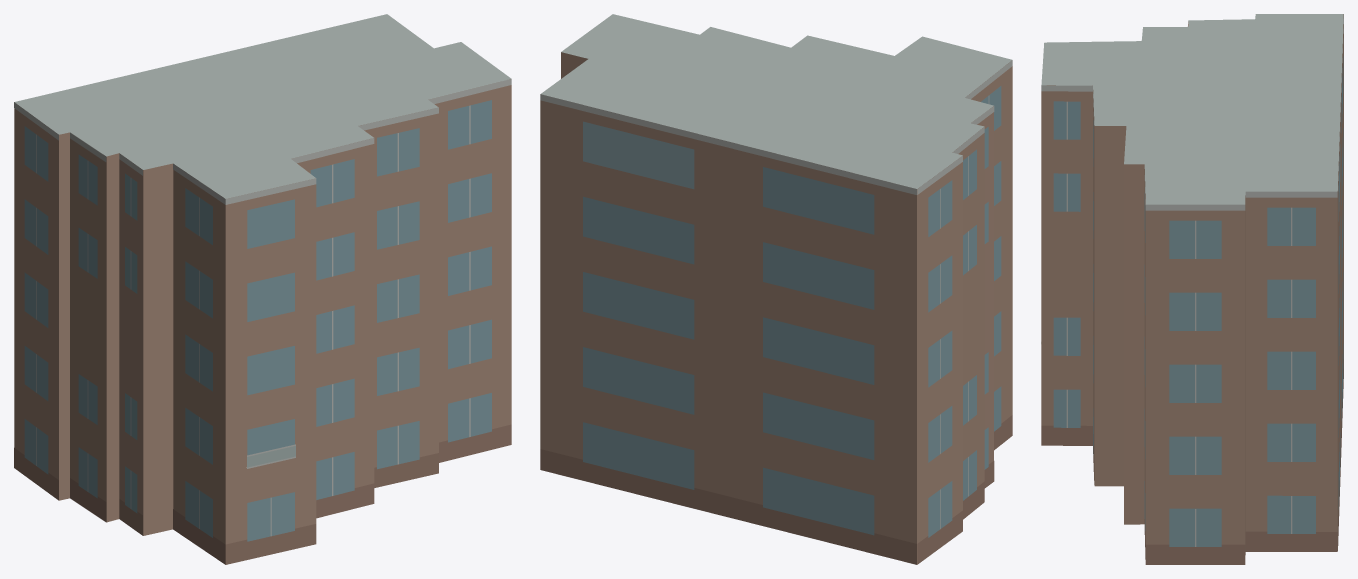
File: survey-upis-32769770.glb
3 views of the same model, side by side, from view 1: azimuth 30°, elevation 25°; view 2: azimuth 150°, elevation 25°; view 3: azimuth 270°, elevation 25° (orthographic). The views are drawn at different scales.
Parts seen in each view (by area): view 1: survey-upis-32769770.tmp; view 2: survey-upis-32769770.tmp; view 3: survey-upis-32769770.tmp.
Part boxes in pixels (x1,y1,x2,y2): survey-upis-32769770.tmp: (14,14,511,564); survey-upis-32769770.tmp: (540,14,1012,564); survey-upis-32769770.tmp: (1041,14,1343,564).
Bounding box in the file's own units: 16.82 × 14.8 × 11.28.
